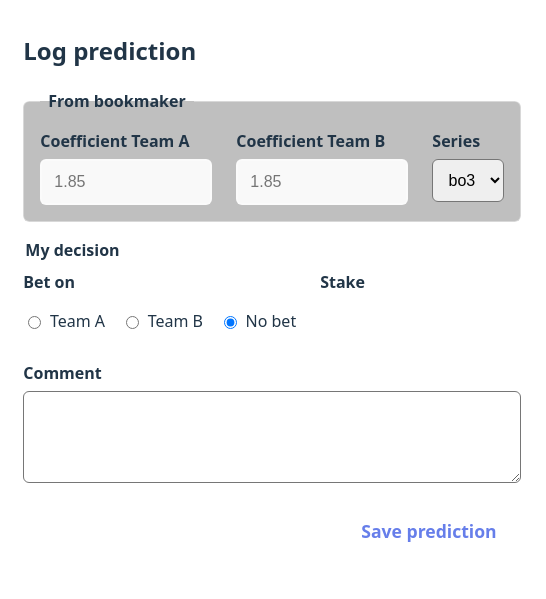
Test: PredictionPanel › shows validation messages and sends nothing when odds or stake are invalid
This screenshot has width=546, height=599.
Step 1. Type "1" into the field labelled "Coefficient Team A" → (126, 182), box [40, 159, 212, 205]
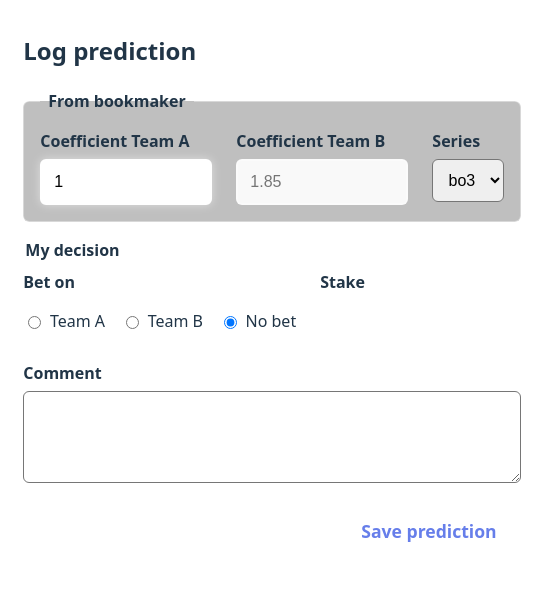
Step 2. Type "abc" into the field labelled "Coefficient Team B" → (322, 182), box [236, 159, 408, 205]
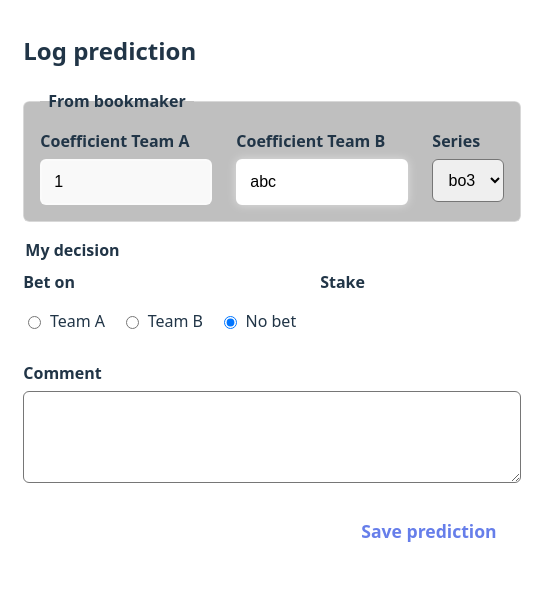
Step 3. Click the radio button labelled "Team A" → (35, 322), box [28, 316, 41, 329]
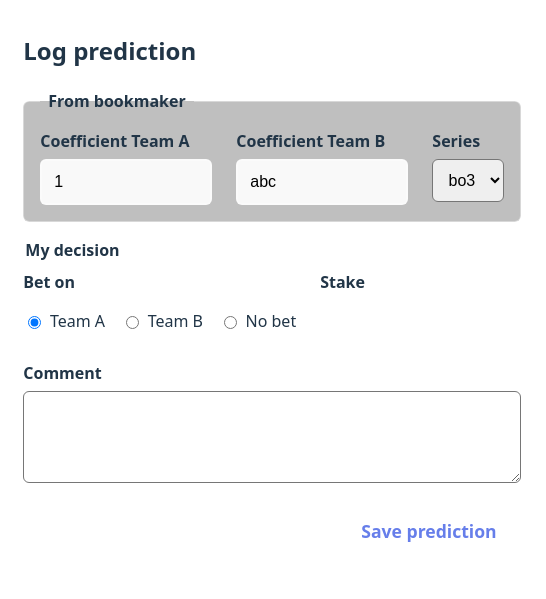
Step 4. Click the button "Save prediction" → (429, 531), box [337, 507, 521, 555]
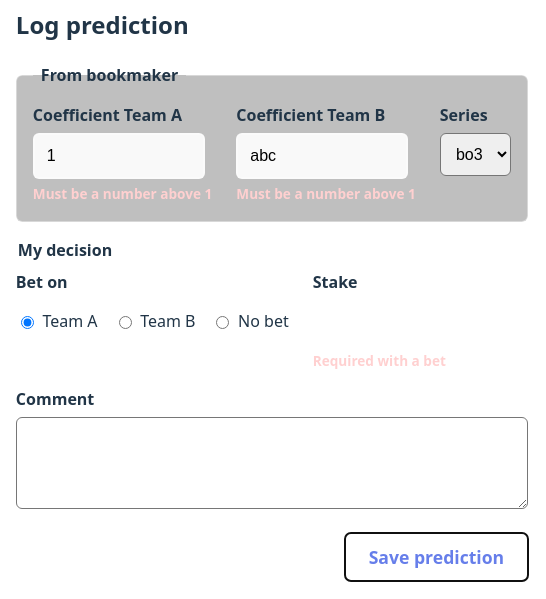
Expected: the text "Must be a number above 1" is shown 2 times, [33, 184, 212, 205]; [236, 184, 416, 205]
Expected: the text "Required with a bet" is shown, [313, 351, 446, 370]
